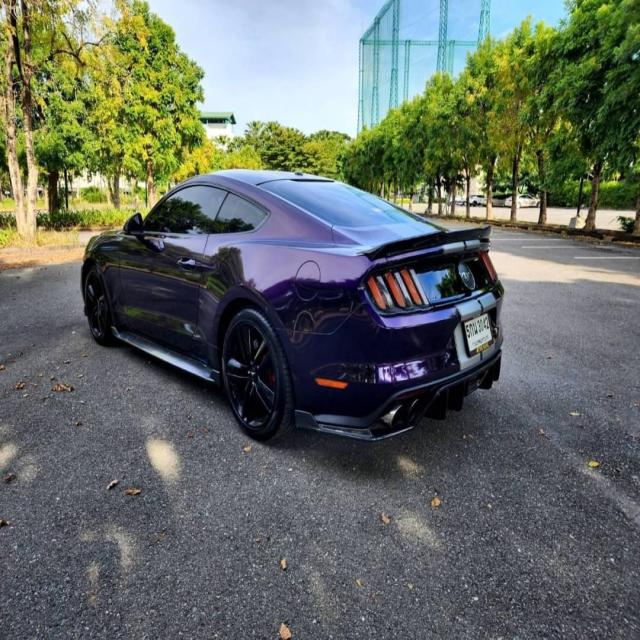license_plate: (456, 306, 498, 360)
